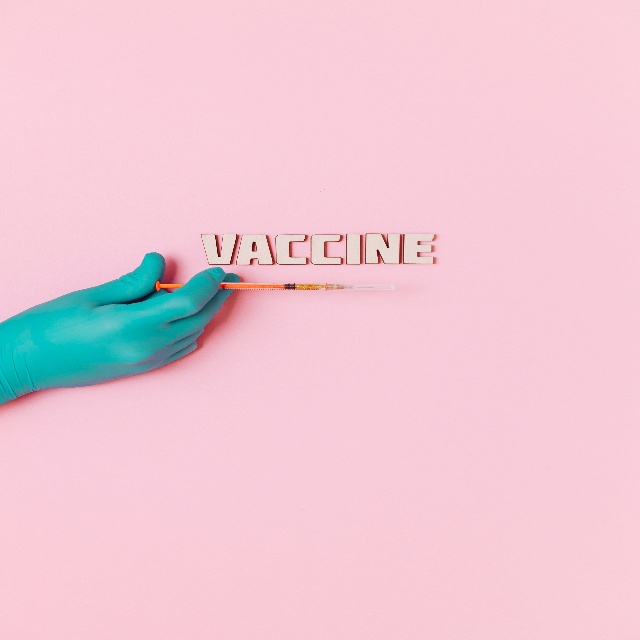Guantes: (0, 251, 239, 406)
